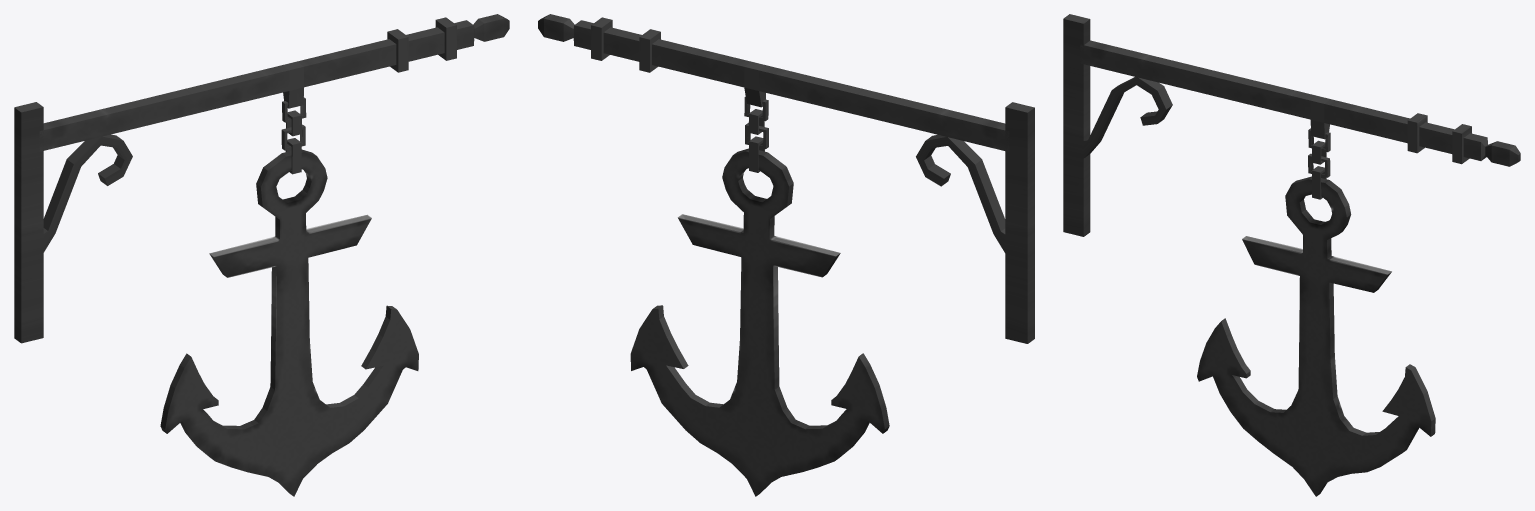
Rendered from sign_360x09.gltf.
The picture shows the model from 3 angles, left to right: view 1: azimuth 30°, elevation 25°; view 2: azimuth 150°, elevation 25°; view 3: azimuth 330°, elevation 25°; orthographic projection. The views are drawn at different scales.
Visible parts, largest first — view 1: sign_360x09; view 2: sign_360x09; view 3: sign_360x09.
Boxes of the visible parts, <box> form: sign_360x09: <box>14,14,509,496</box>; sign_360x09: <box>538,14,1034,496</box>; sign_360x09: <box>1063,14,1520,496</box>.
Size of the model in its own units: 2.98 by 2.62 by 0.1145.
Materials: 1 (1 with a texture image).
